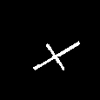single_crochet: (33, 41, 79, 69)
